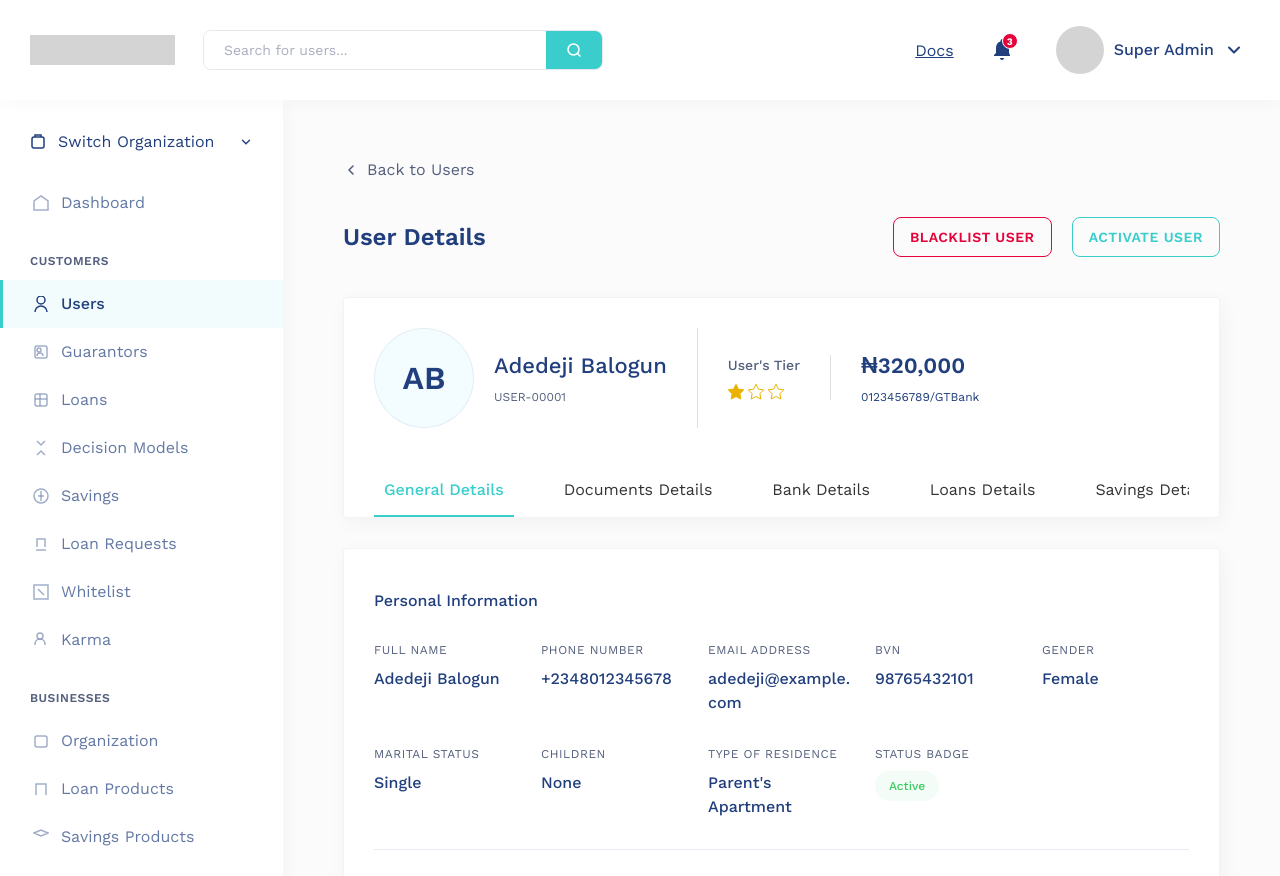
Test: UserDetails Page and STATEFUL INTERACTIVE TABS › Loans Tab: opens modal and records manual repayments
expect the heading "Adedeji Balogun" is shown: met, box [494, 349, 667, 382]
Click the button "Loans Details" at [983, 492], box [920, 468, 1046, 516]
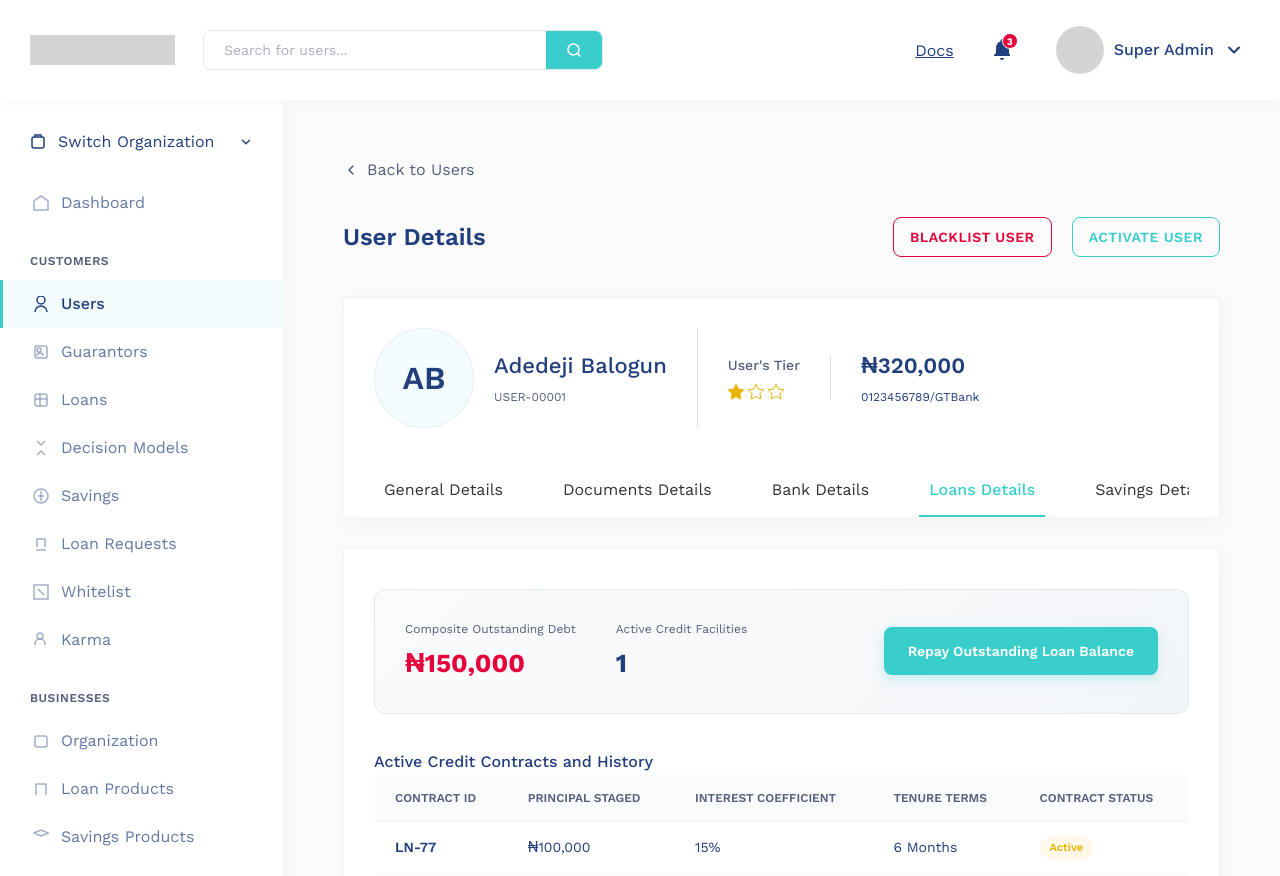
// Open repay modal
Click the button "Repay Outstanding Loan Balance" at [1021, 651], box [884, 627, 1158, 675]
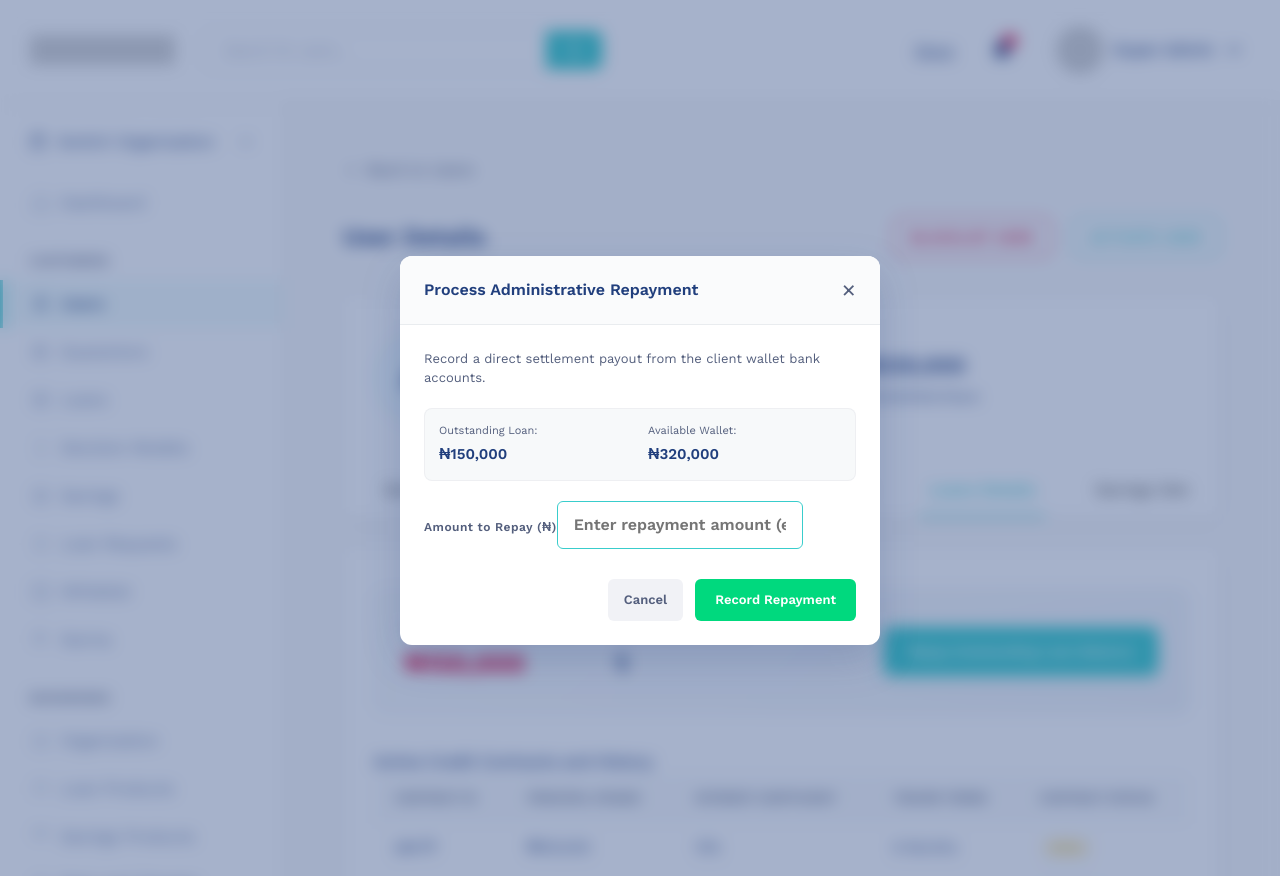
expect the heading "Process Administrative Repayment" is shown: met, box [424, 278, 698, 302]
// Input repayment amount
Type "50000" into the field with placeholder "Enter repayment amount (e.g. 50000)" at [680, 524], box [557, 500, 803, 548]
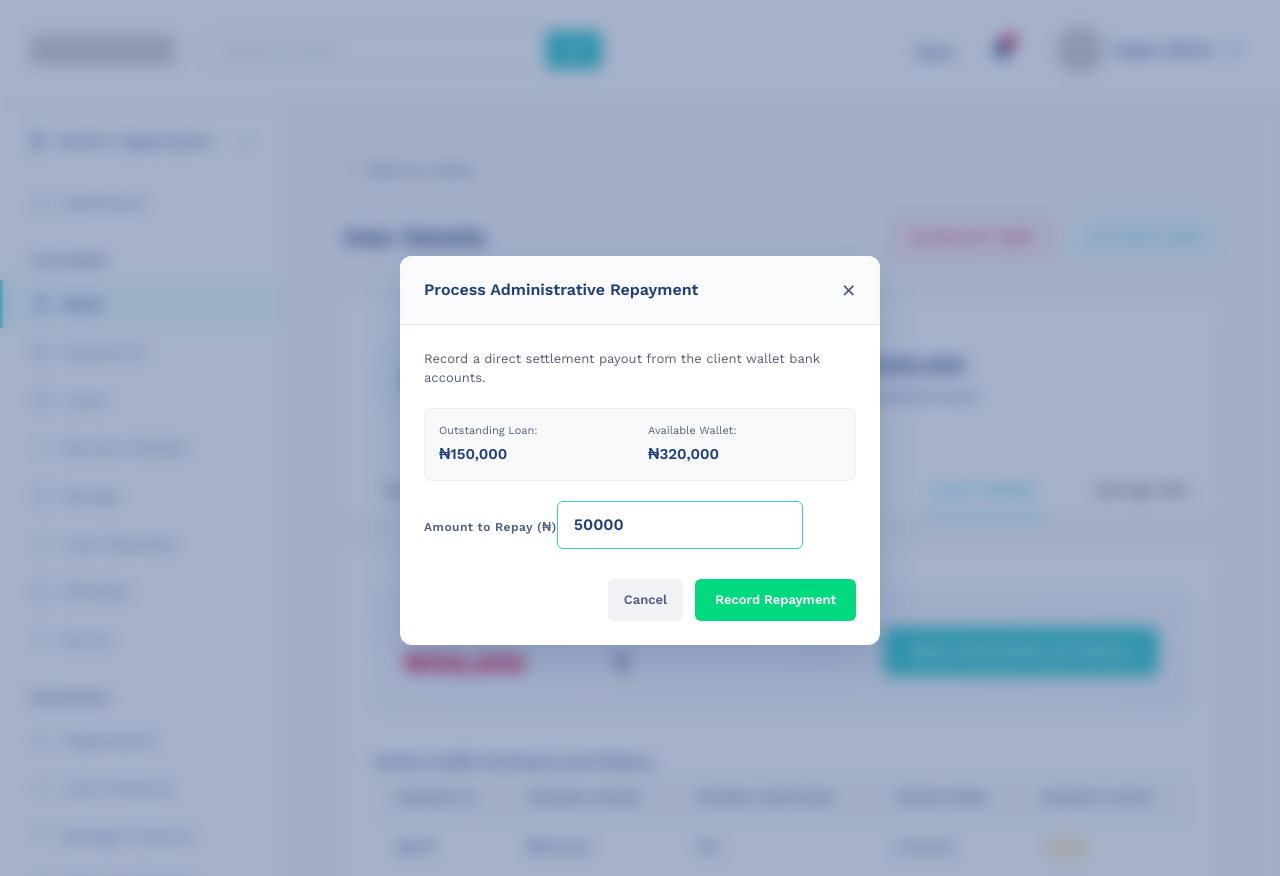
// Submit repayment
Click the button "Record Repayment" at [776, 600], box [695, 578, 856, 620]
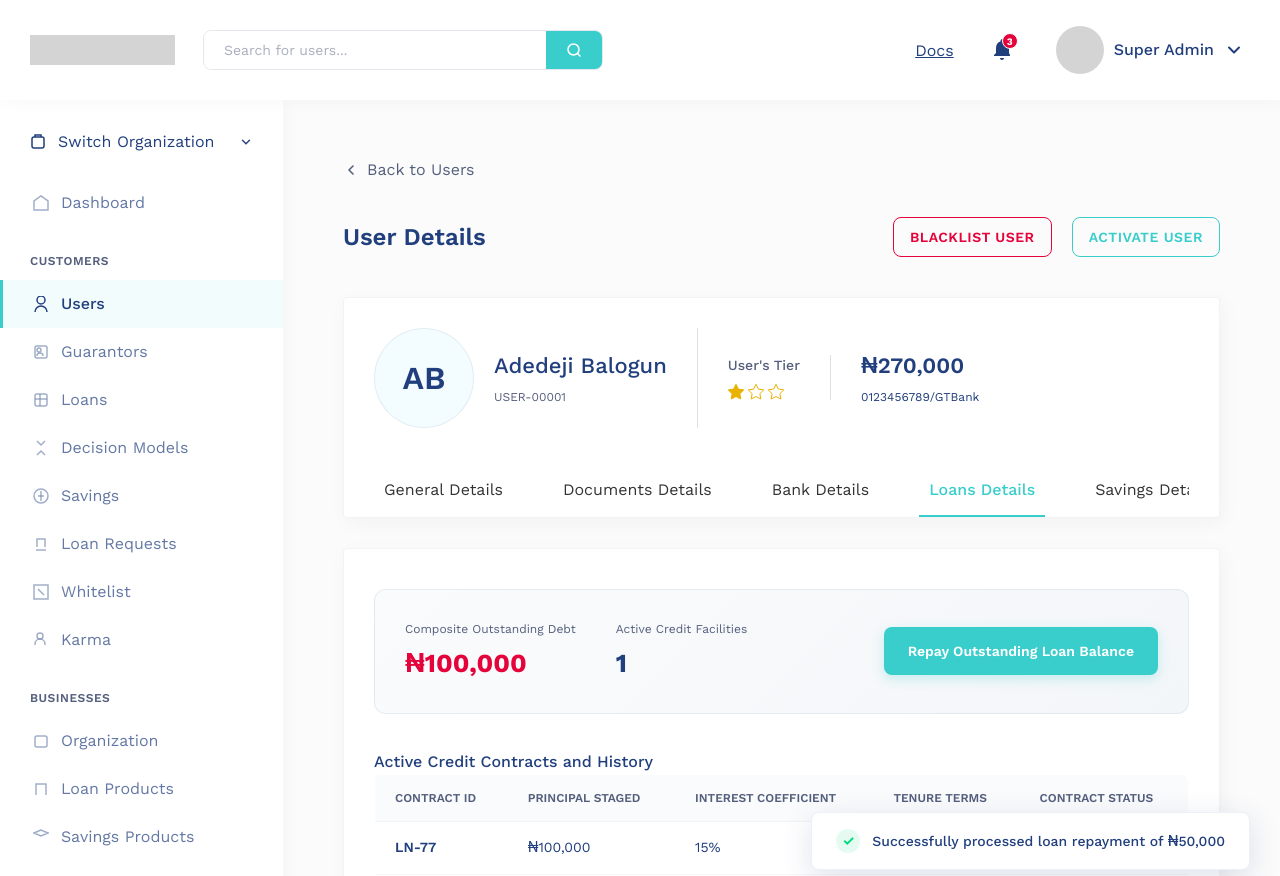
expect the text "Composite Outstanding Debt" is shown: met, box [405, 620, 576, 638]
expect the text "Successfully processed loan repayment of ₦50,000" is shown: met, box [872, 830, 1225, 852]
